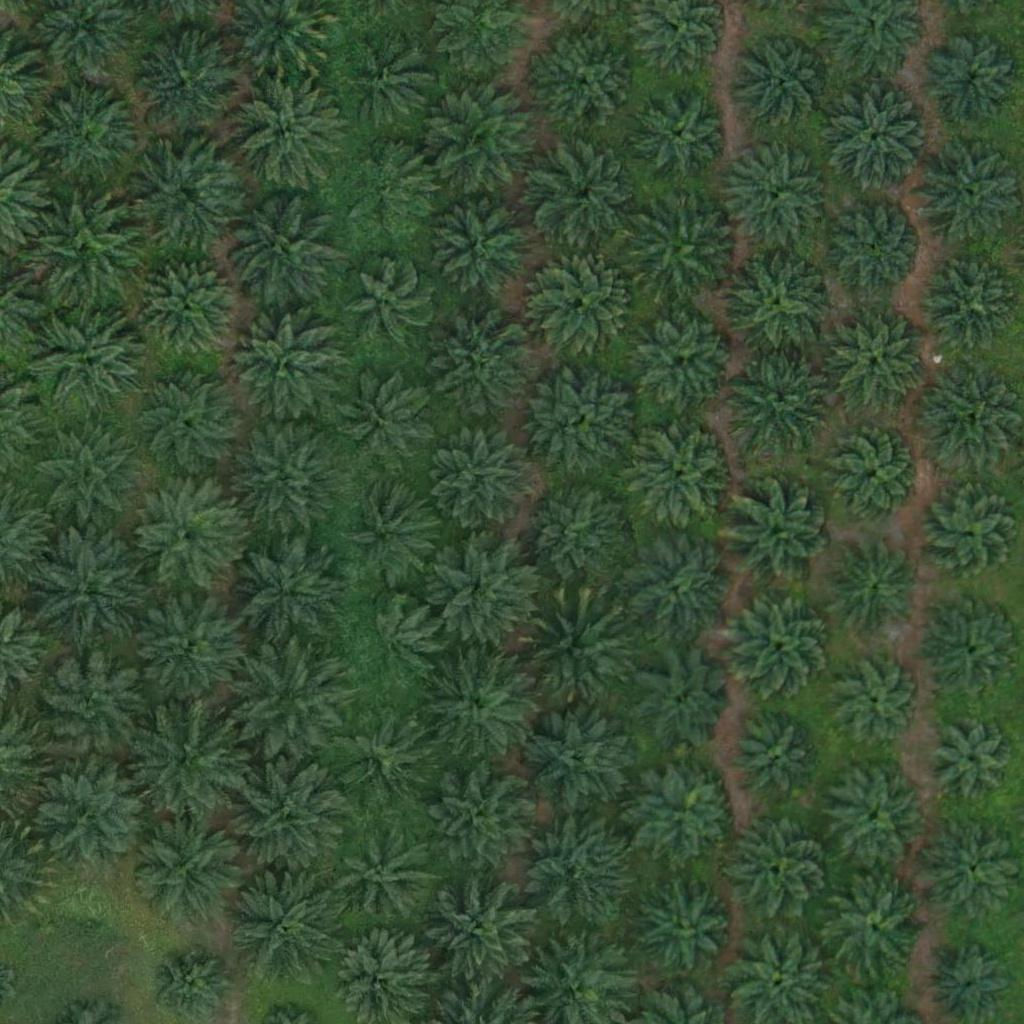Kelapa_Sawit: (531, 26, 644, 140), (628, 190, 741, 304), (720, 247, 833, 361), (728, 346, 841, 460), (228, 861, 341, 975), (131, 592, 244, 706), (128, 702, 241, 816), (29, 421, 142, 535), (31, 531, 144, 645), (229, 74, 342, 187), (224, 191, 337, 304), (228, 313, 341, 426), (426, 421, 539, 534), (722, 478, 835, 591), (724, 588, 837, 701), (523, 701, 636, 814), (519, 811, 632, 924), (428, 535, 541, 648), (419, 648, 532, 761), (425, 765, 538, 878), (133, 812, 246, 925), (35, 652, 148, 765), (718, 140, 830, 254), (425, 876, 537, 990), (232, 642, 344, 756), (234, 759, 346, 873), (26, 77, 138, 190), (25, 193, 137, 306), (33, 307, 145, 420), (128, 140, 240, 253), (132, 364, 244, 477), (231, 421, 343, 534), (429, 84, 541, 197), (427, 192, 539, 305), (531, 141, 643, 254), (530, 365, 642, 478), (822, 81, 934, 194), (521, 481, 633, 594), (520, 596, 632, 709), (230, 536, 342, 649), (130, 479, 242, 592), (40, 759, 152, 872), (134, 32, 234, 133), (137, 255, 237, 356), (435, 316, 535, 417), (533, 252, 633, 353), (635, 309, 735, 410), (733, 31, 833, 132), (923, 29, 1023, 130), (921, 253, 1021, 354), (824, 537, 924, 638), (825, 765, 925, 866), (825, 882, 925, 983), (729, 819, 829, 920), (628, 424, 728, 525), (625, 536, 725, 637), (634, 652, 734, 753), (635, 762, 735, 863), (632, 876, 732, 977), (340, 482, 440, 583), (633, 86, 733, 186), (825, 197, 925, 297), (827, 314, 927, 414), (920, 483, 1020, 583), (824, 424, 924, 524), (332, 709, 432, 809), (336, 828, 436, 928), (344, 41, 432, 129), (733, 714, 821, 802), (349, 599, 437, 687), (348, 145, 435, 233), (343, 259, 430, 347), (344, 375, 431, 463), (931, 713, 1018, 801), (833, 657, 920, 745), (64, 896, 114, 946)
